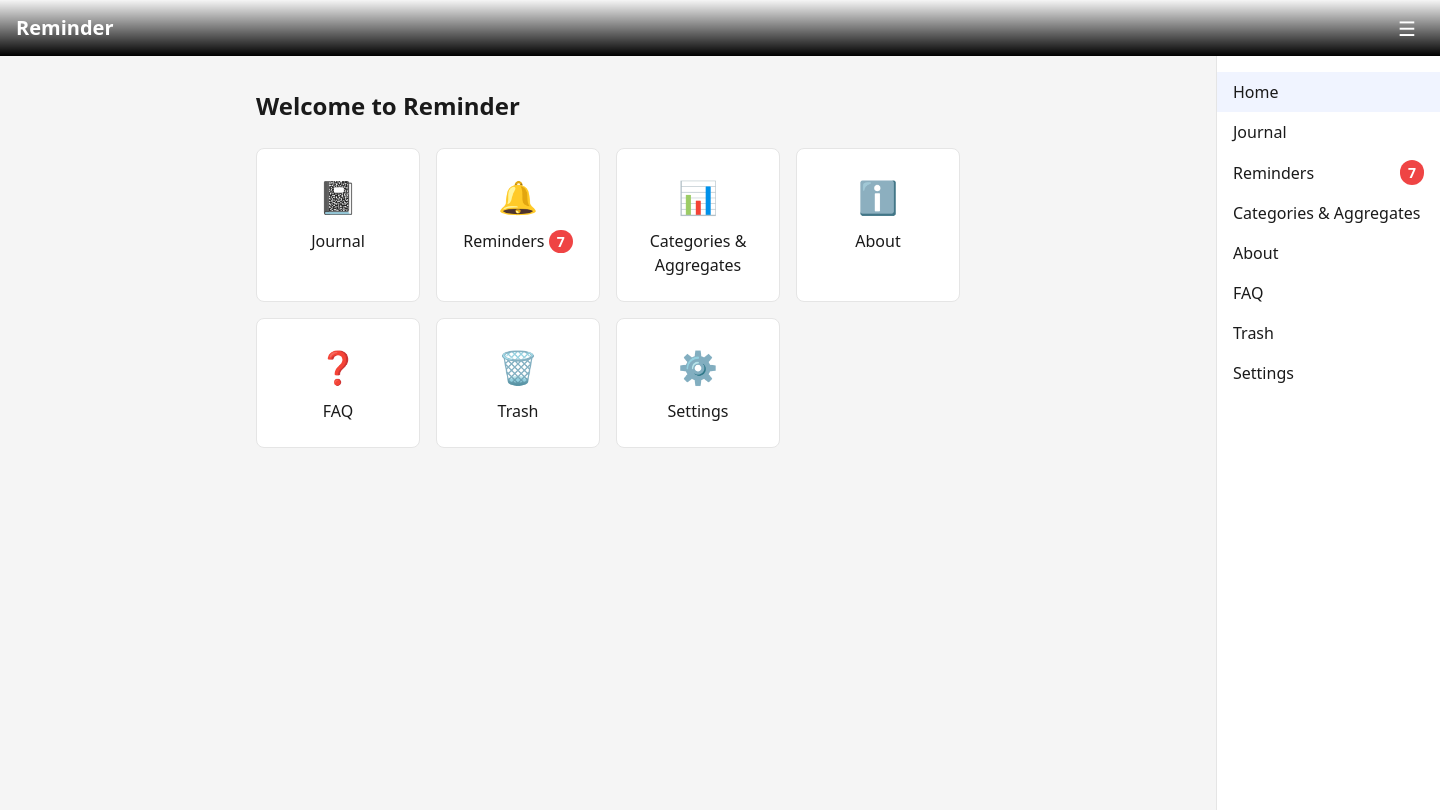
it: app shell navigation › shows placeholder pages for Settings and FAQ
Click the link "⚙️ Settings". click: click(698, 383)
box: [616, 318, 780, 448]
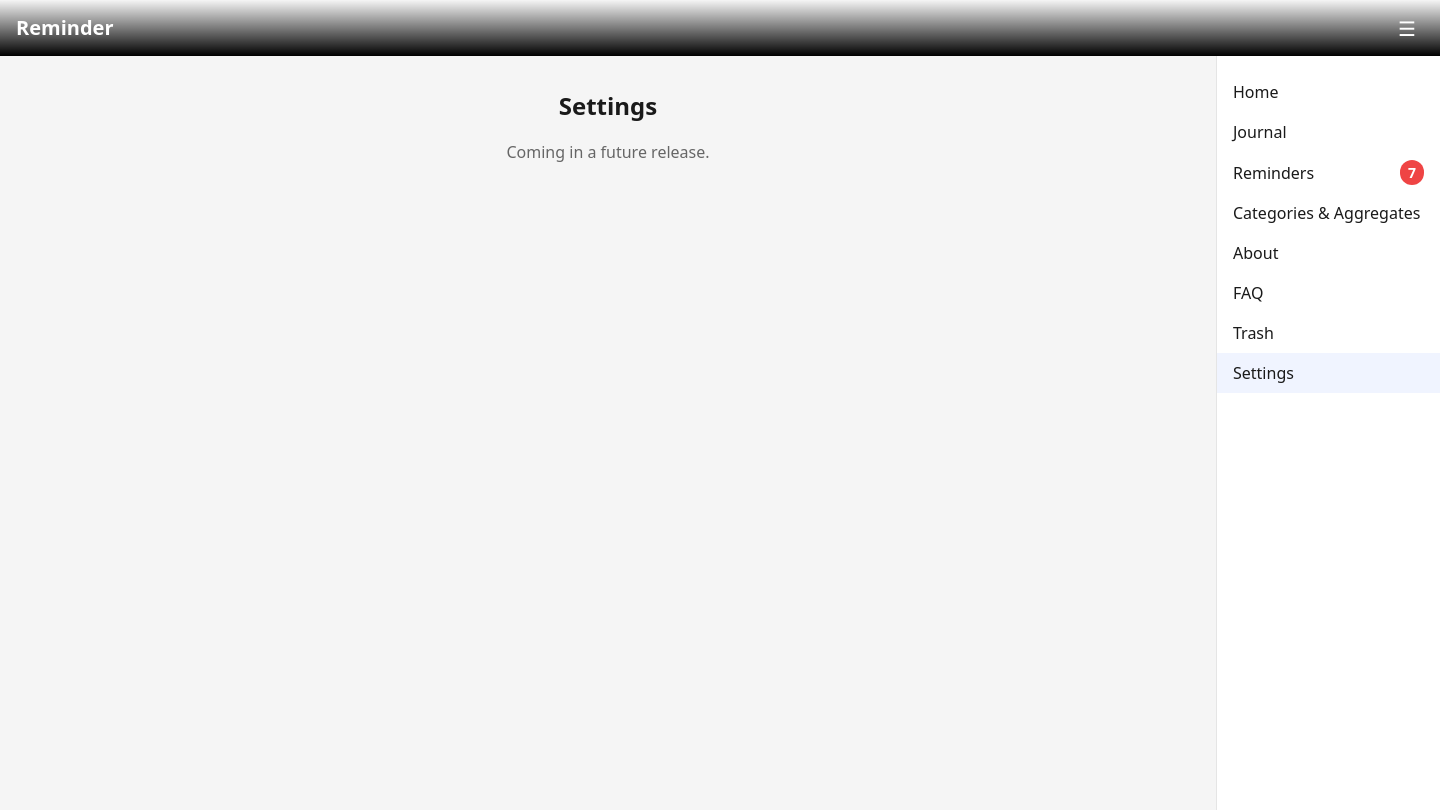
Expected: the heading "Settings" is shown, [559, 89, 657, 122]
Click the link "FAQ". click: click(1248, 293)
box: [1233, 282, 1263, 304]
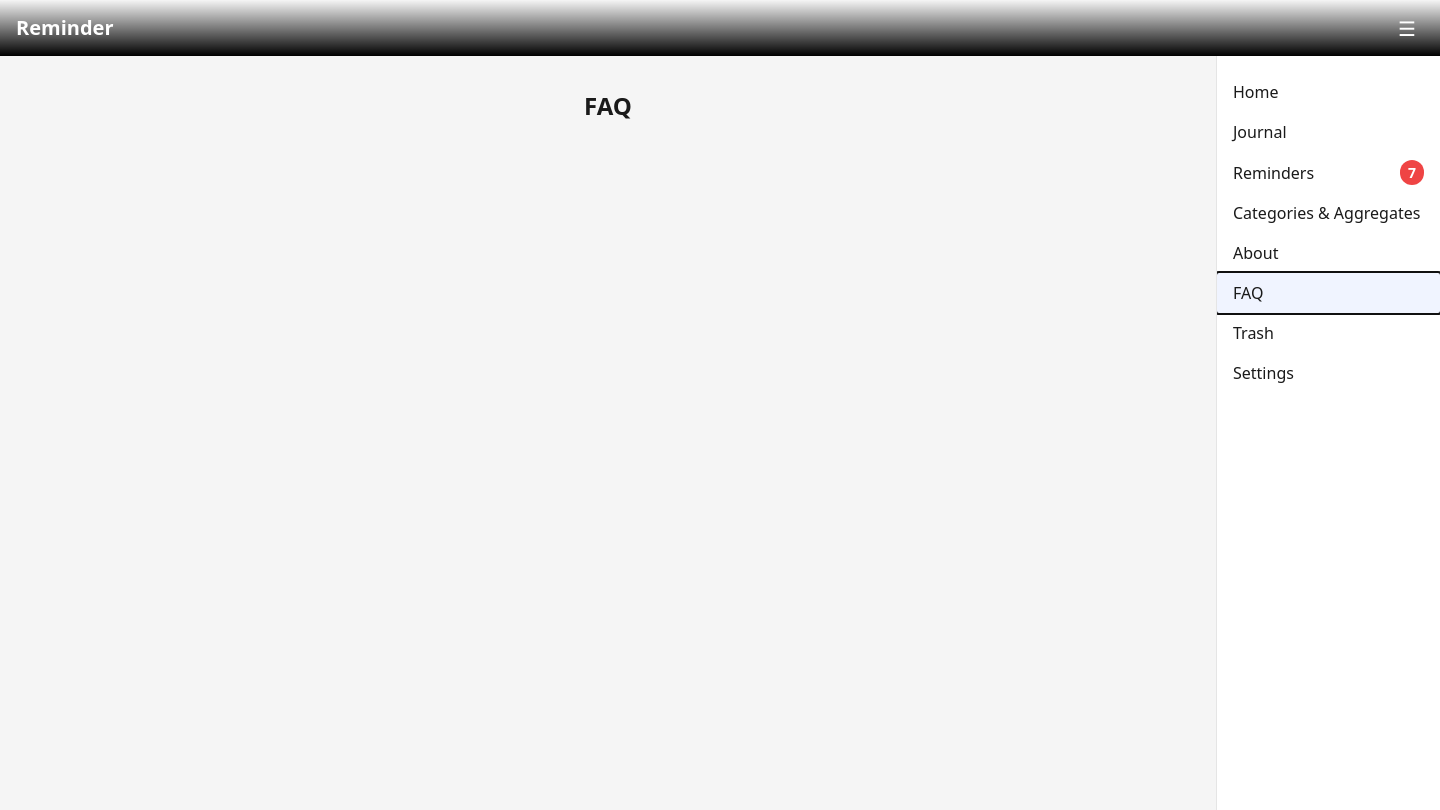
Expected: the heading "FAQ" is shown, [584, 89, 632, 122]
